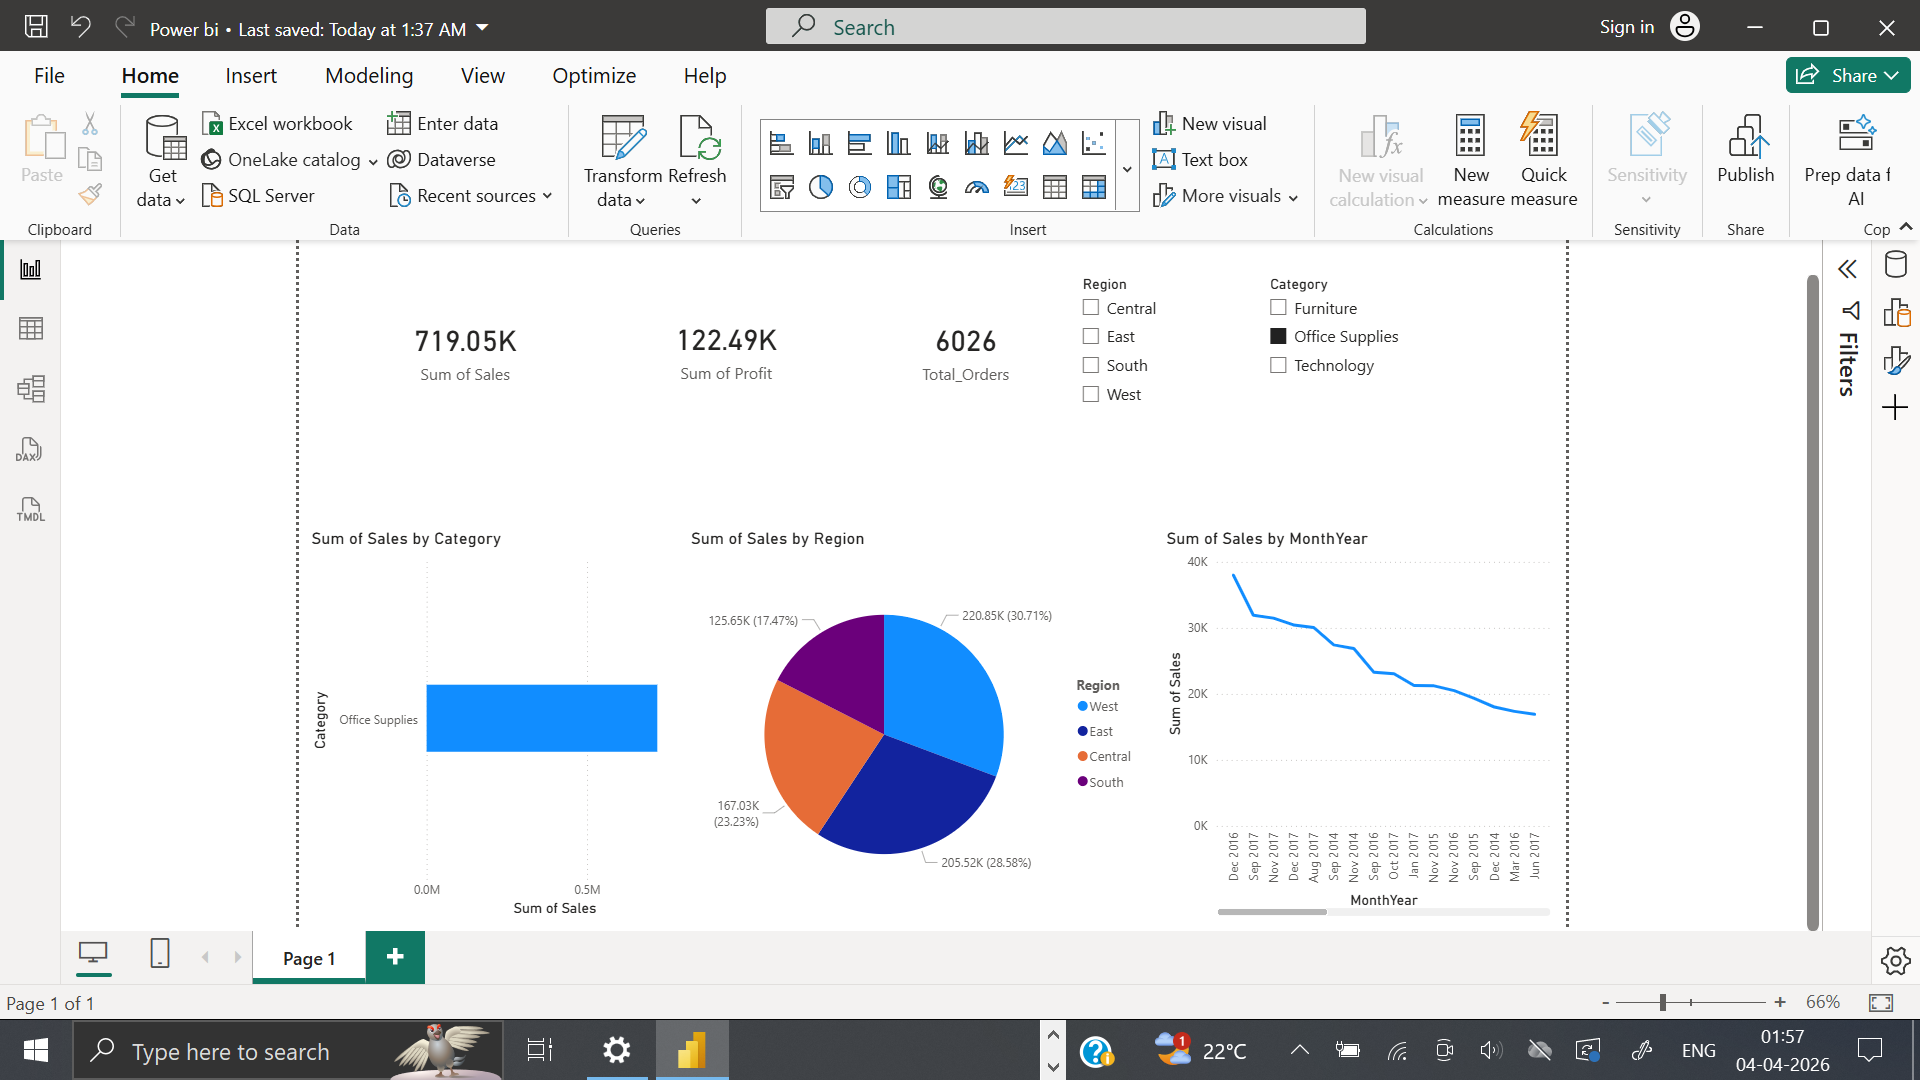

What the dashboard file says about the page in this screenshot:
{"tool":"powerbi","page":{"name":"Page 1","canvas":[1280,720],"ordinal":0},"visuals":[{"type":"card","fields":{"Values":["Sum(Superstore.Sales)"]},"box":[36.6,52.5,262.5,159.1],"z":0},{"type":"card","fields":{"Values":["Sum(Superstore.Profit)"]},"box":[299,62,265.6,138.4],"z":1},{"type":"card","fields":{"Values":["Superstore.Total_Orders"]},"box":[553.5,84.3,240.2,95.4],"z":2},{"type":"clusteredBarChart","fields":{"Category":["Superstore.Category"],"Y":["Sum(Superstore.Sales)"]},"box":[8,313.4,399.2,396.1],"z":3},{"type":"pieChart","fields":{"Category":["Superstore.Region"],"Y":["Sum(Superstore.Sales)"]},"box":[391.3,313.4,464.5,396.1],"z":4},{"type":"lineChart","fields":{"Category":["Superstore.MonthYear"],"Y":["Sum(Superstore.Sales)"]},"box":[871.7,313.4,397.7,396.1],"z":5},{"type":"slicer","fields":{"Values":["Superstore.Region"]},"box":[779.4,52.5,330.8,151.1],"z":7},{"type":"slicer","fields":{"Values":["Superstore.Category"]},"box":[968.7,52.5,283.1,143.2],"z":8}]}

Visuals, with their boxes in screenshot pixels (x1, y1, x2, y2):
card - Sum(Superstore.Sales): (x1=0, y1=43, x2=367, y2=278)
card - Sum(Superstore.Profit): (x1=367, y1=57, x2=760, y2=261)
card - Superstore.Total_Orders: (x1=744, y1=90, x2=1099, y2=231)
clusteredBarChart - Superstore.Category x Sum(Superstore.Sales): (x1=0, y1=429, x2=527, y2=1015)
pieChart - Superstore.Region x Sum(Superstore.Sales): (x1=504, y1=429, x2=1191, y2=1015)
lineChart - Superstore.MonthYear x Sum(Superstore.Sales): (x1=1214, y1=429, x2=1803, y2=1015)
slicer - Superstore.Region: (x1=1078, y1=43, x2=1567, y2=266)
slicer - Superstore.Category: (x1=1358, y1=43, x2=1777, y2=254)
